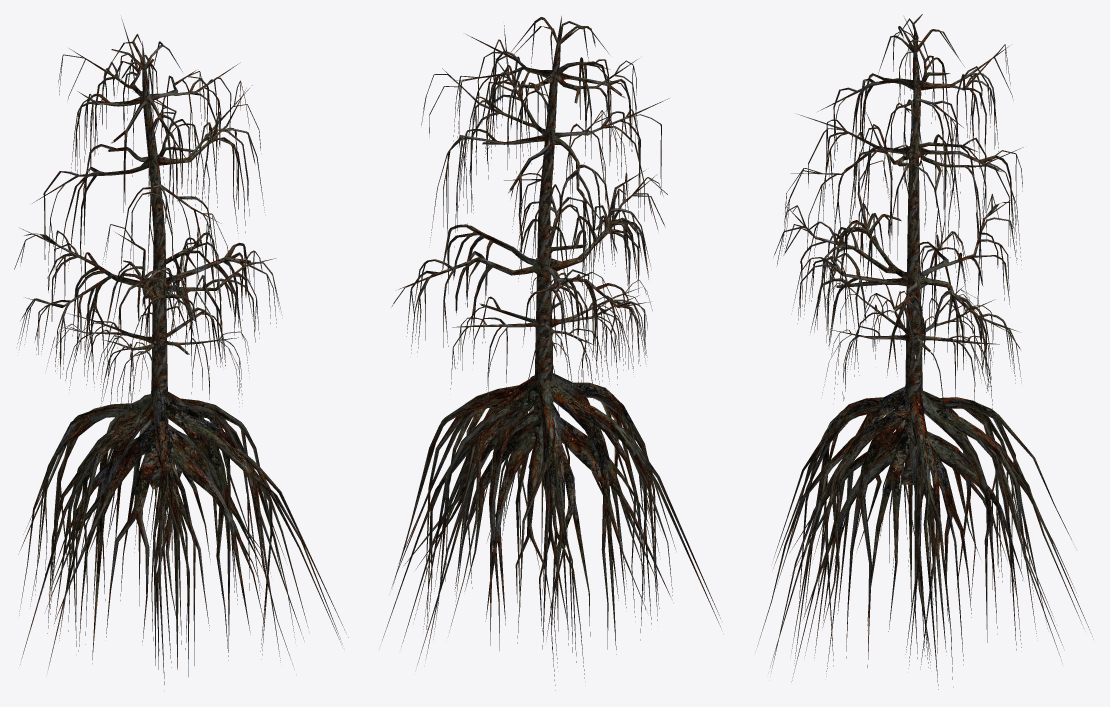
Rendered from swampTree07.fbx.
The picture shows the model from 3 angles, left to right: view 1: azimuth 30°, elevation 25°; view 2: azimuth 150°, elevation 25°; view 3: azimuth 270°, elevation 25°; orthographic projection. The views are drawn at different scales.
Parts seen in each view (by area): view 1: swamptree07; view 2: swamptree07; view 3: swamptree07.
Boxes of the visible parts, <box> form: swamptree07: <box>14,18,348,684</box>; swamptree07: <box>382,16,721,690</box>; swamptree07: <box>757,14,1092,689</box>.
Size of the model in its own units: 71.99 by 71.88 by 143.
